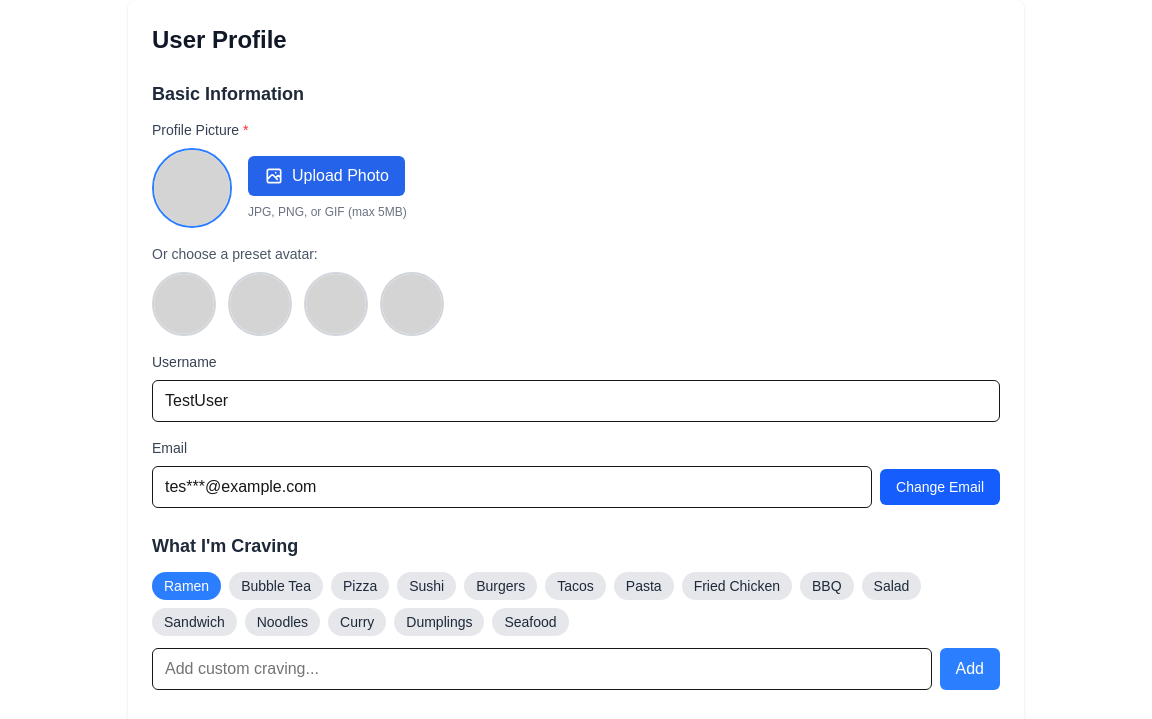
Test case: UserProfileForm › Email Verification Flow › sends verification code to new email - step 2
Click the button "Change Email": (940, 487) [880,469,1000,505]
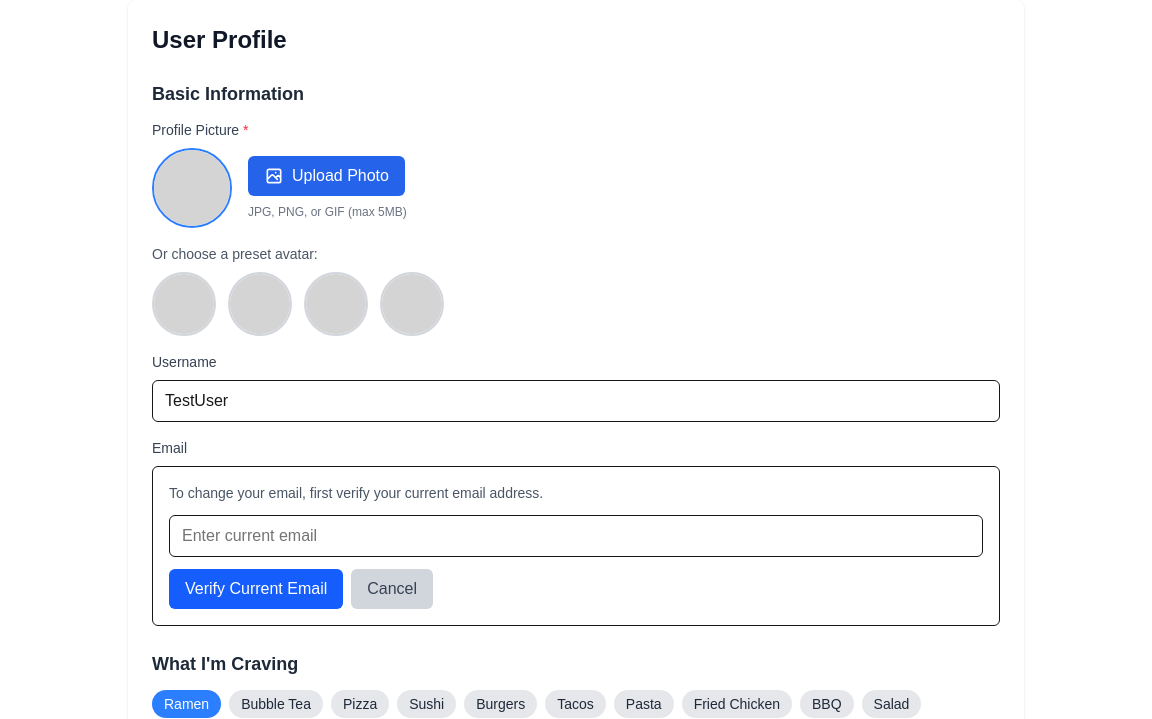
Verify current email
In the field with placeholder "Enter current email": (576, 536) [169,515,983,557], type "test@example.com"
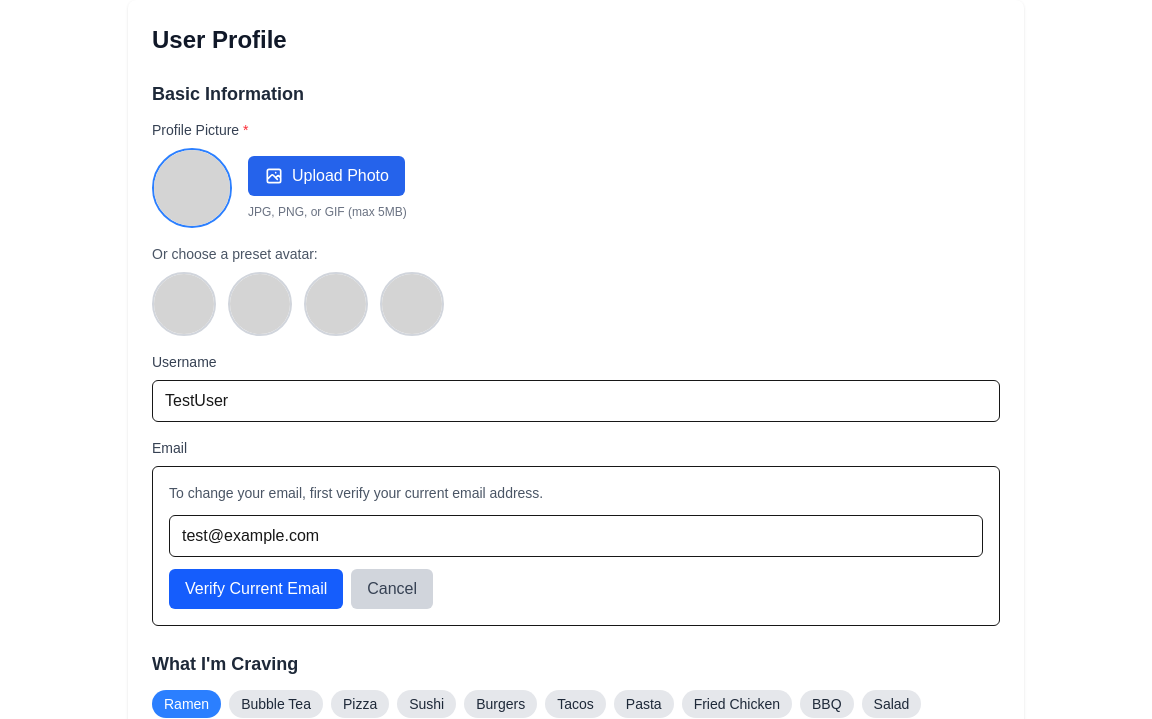
Click the button "Verify Current Email": (256, 589) [169,569,343,609]
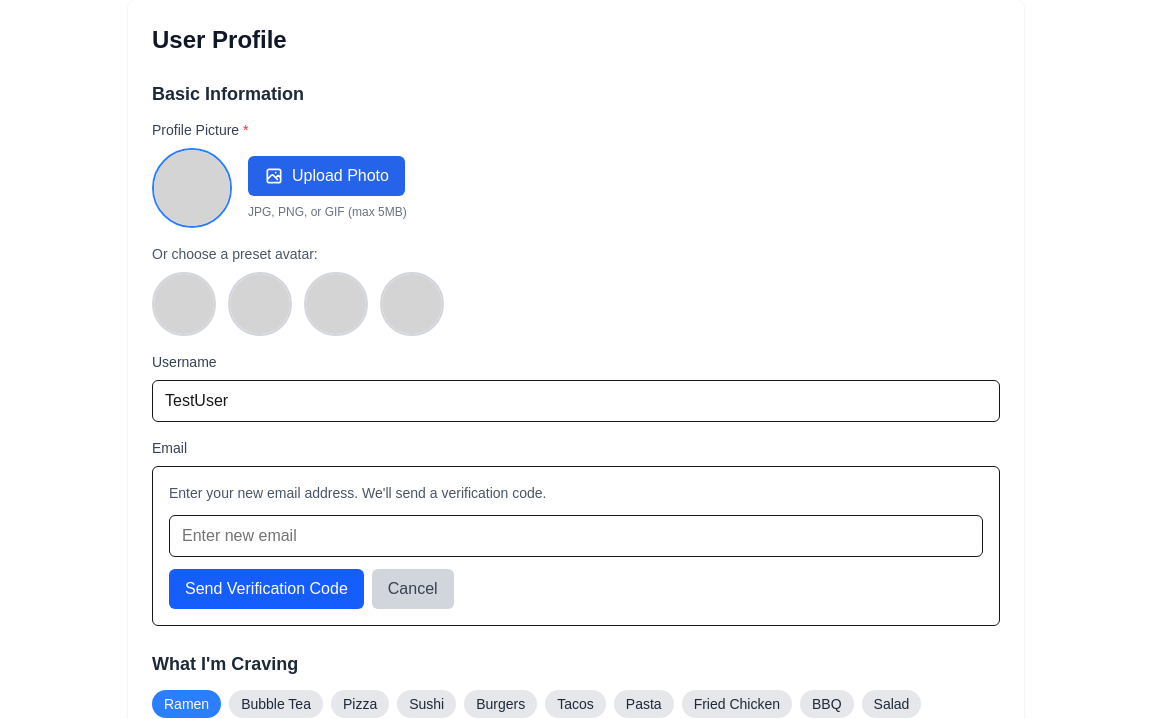
Check: the field with placeholder "Enter new email" is shown
Enter new email and send code
In the field with placeholder "Enter new email": (576, 536) [169,515,983,557], type "newemail@example.com"
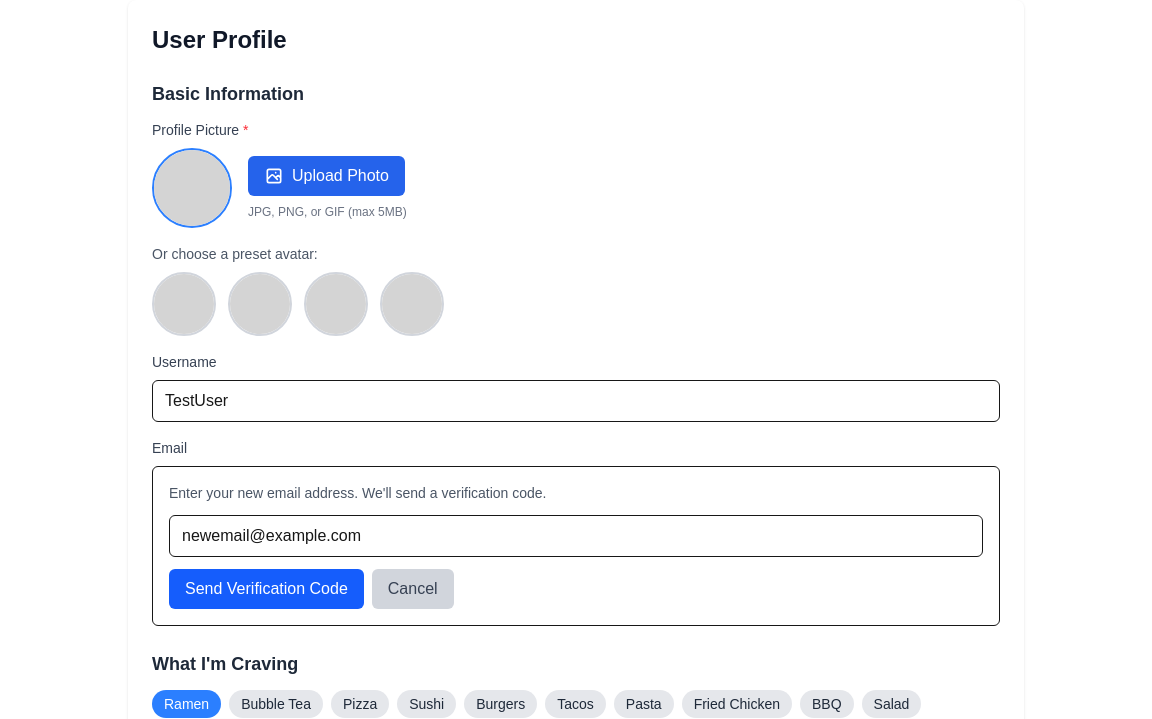
Click the button "Send Verification Code": (266, 589) [169,569,364,609]
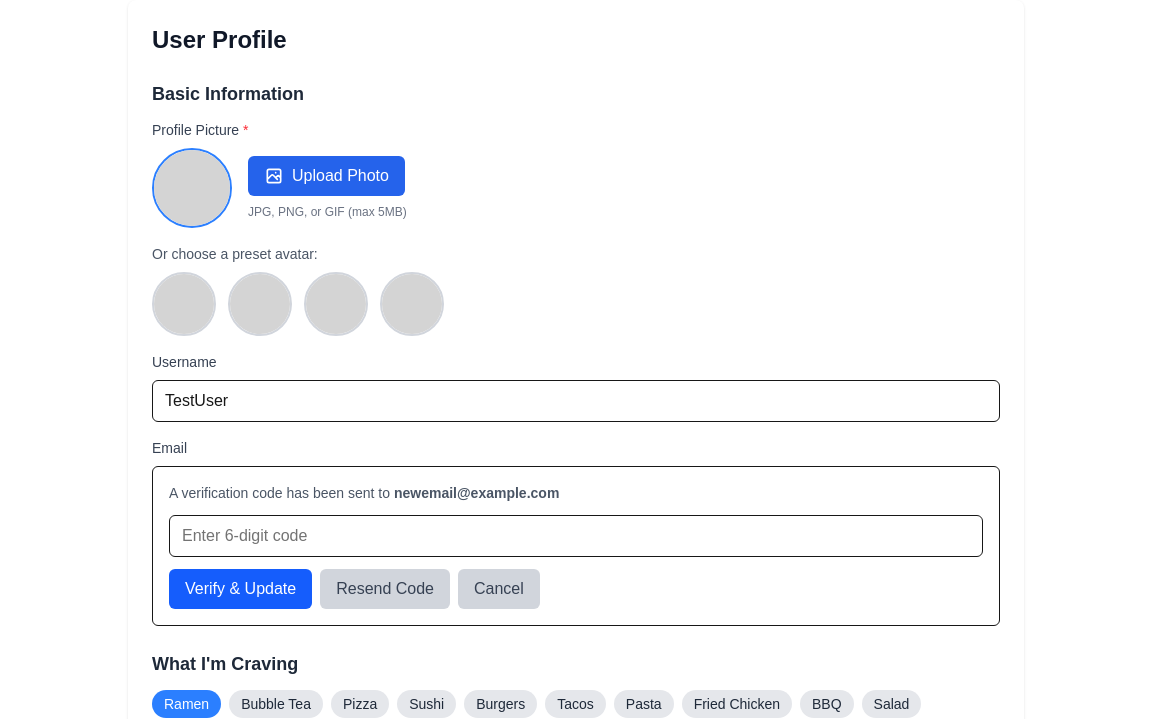
Check: the field with placeholder "Enter 6-digit code" is shown, box [169,515,983,557]
